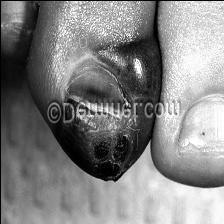Toxin: (61, 38, 169, 94), (67, 122, 145, 180)
